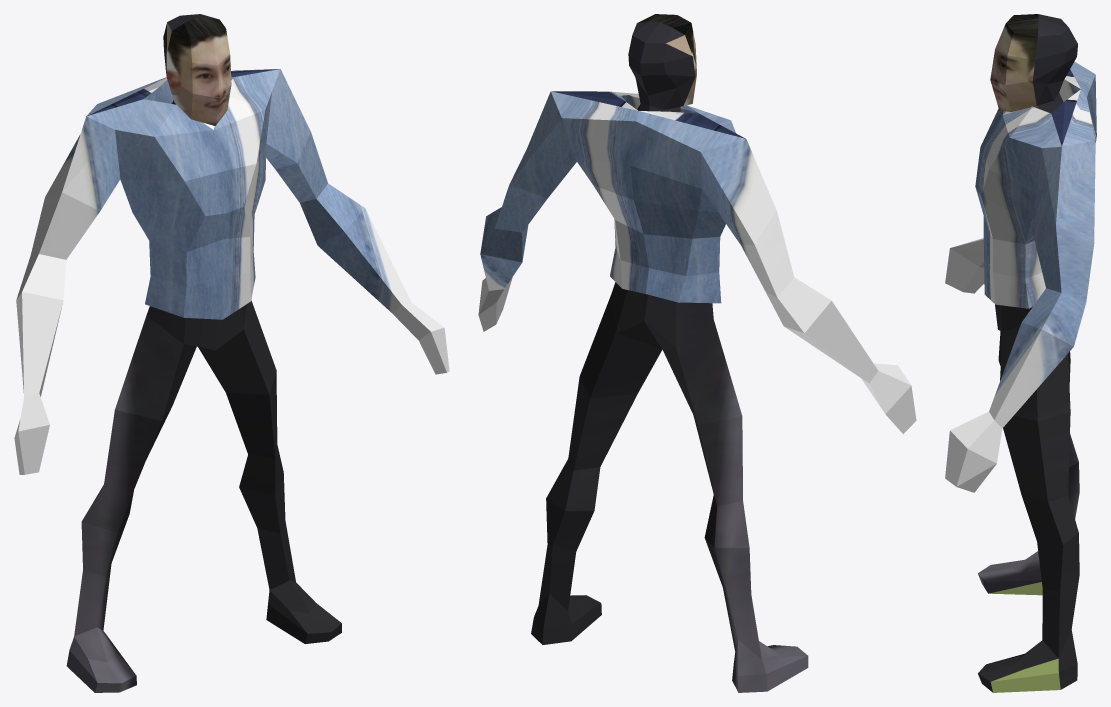
The model's file is pusher.fbx.
The picture shows the model from 3 angles, left to right: view 1: azimuth 30°, elevation 25°; view 2: azimuth 150°, elevation 25°; view 3: azimuth 270°, elevation 25°; orthographic projection. The views are drawn at different scales.
Parts seen in each view (by area): view 1: BASE_Low_Poly_Man_Cube.001; view 2: BASE_Low_Poly_Man_Cube.001; view 3: BASE_Low_Poly_Man_Cube.001.
Boxes of the visible parts, left/top/right/bottom form: BASE_Low_Poly_Man_Cube.001: left=14, top=14, right=449, bottom=692; BASE_Low_Poly_Man_Cube.001: left=478, top=14, right=916, bottom=692; BASE_Low_Poly_Man_Cube.001: left=945, top=14, right=1096, bottom=692.
Size of the model in its own units: 385 by 542 by 121.
